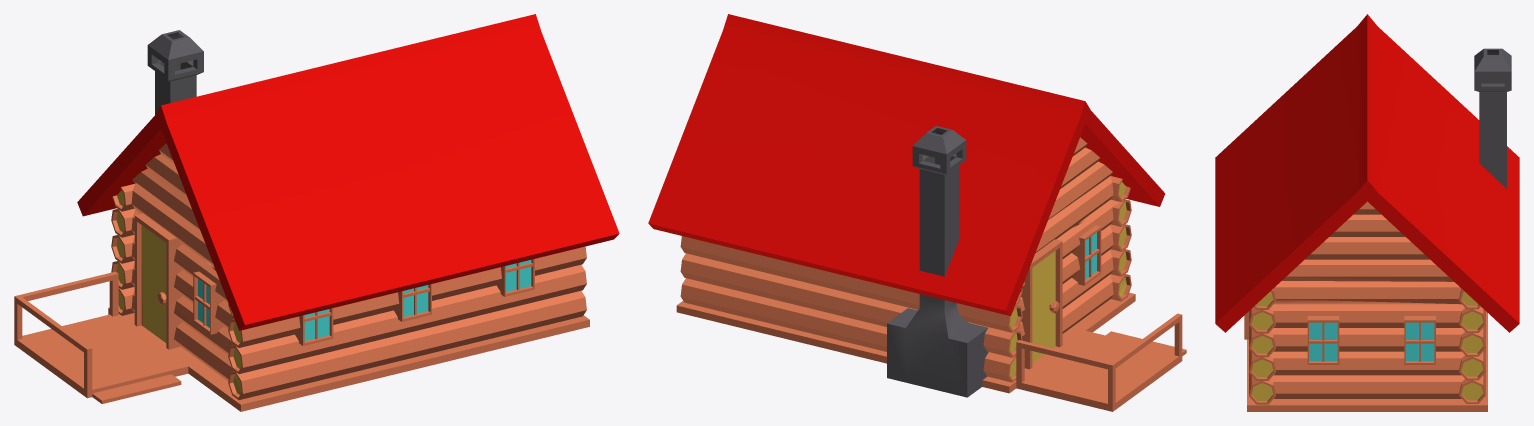
File: Domeklepszy.fbx
3 renders of one model, left to right at view 1: azimuth 30°, elevation 25°; view 2: azimuth 150°, elevation 25°; view 3: azimuth 270°, elevation 25°, orthographic. The views are drawn at different scales.
Visible parts, largest first — view 1: Domek_1; view 2: Domek_1; view 3: Domek_1.
Boxes of the visible parts, x1,y1,x2,y2 form: Domek_1: (14, 14, 619, 411); Domek_1: (648, 14, 1186, 411); Domek_1: (1215, 14, 1519, 411).
Bounding box in the file's own units: 1754 × 948 × 1102.
